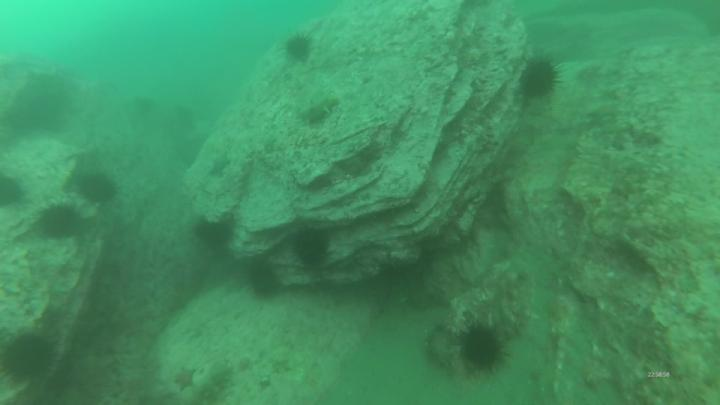echinus: (6, 335, 54, 378), (466, 328, 500, 369), (294, 230, 326, 266), (524, 61, 555, 96), (46, 210, 84, 237), (248, 264, 277, 298), (80, 176, 116, 200), (194, 225, 232, 247), (287, 39, 308, 58)
holothurian: (300, 93, 335, 127)
starfish: (175, 371, 195, 391)
